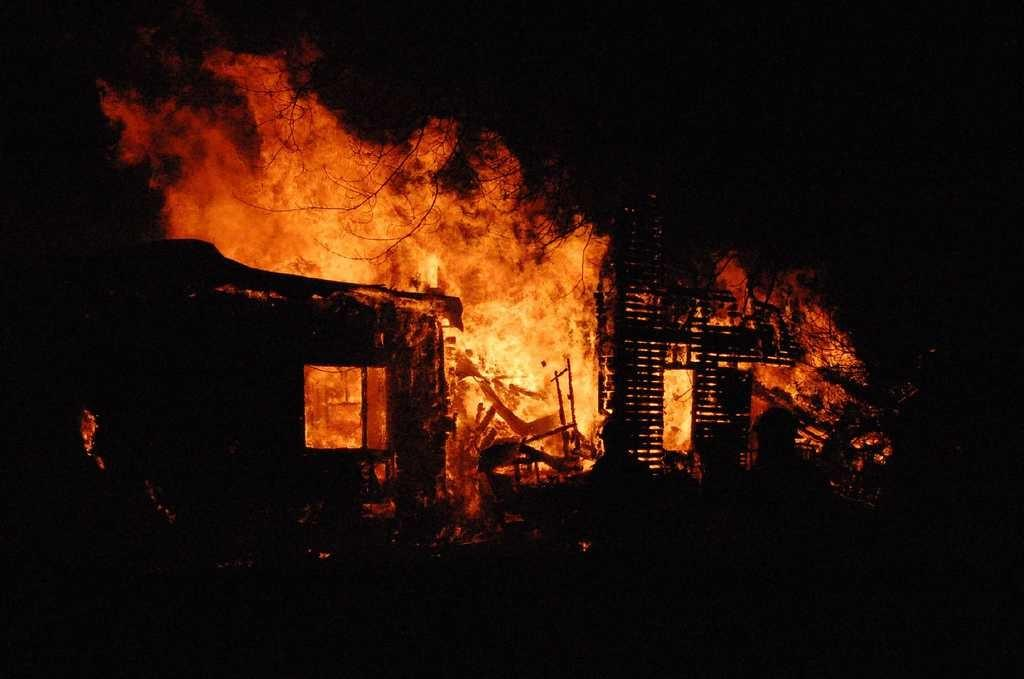fire: (470, 290, 587, 397), (272, 148, 362, 272), (413, 195, 512, 278)
